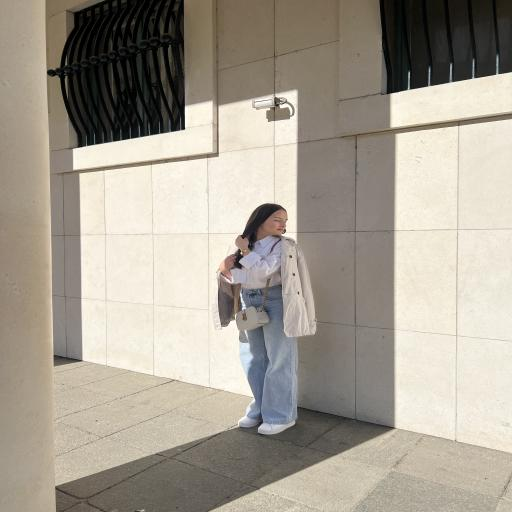marija: (262, 209, 288, 236)
